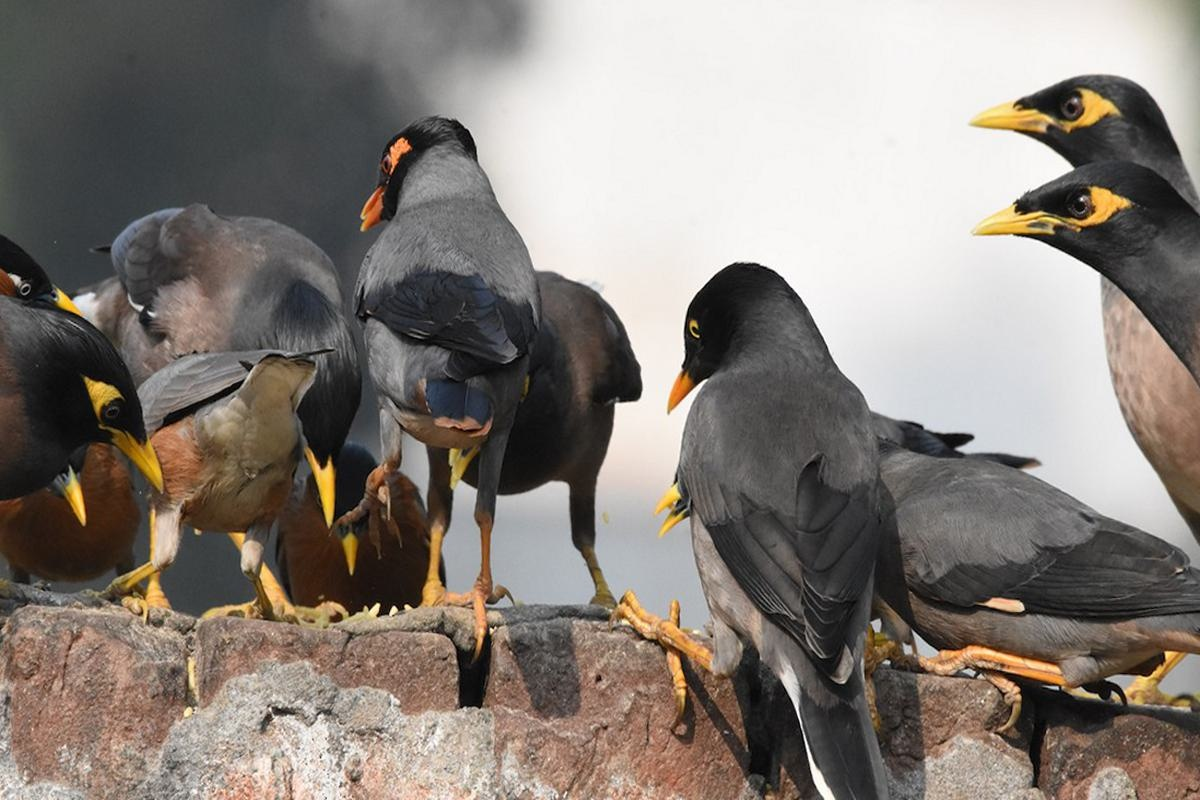myna: (649, 251, 904, 800), (981, 168, 1200, 413), (969, 63, 1200, 166)
